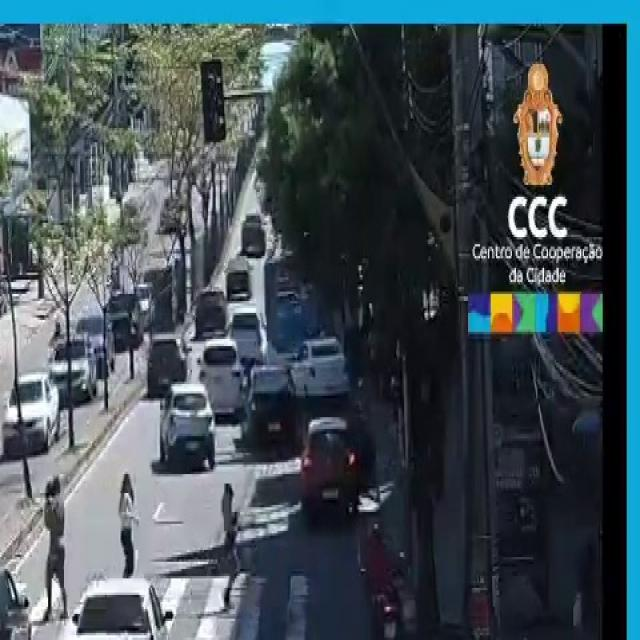car: (298, 416, 359, 520), (153, 380, 218, 474), (2, 372, 62, 452), (290, 335, 352, 408), (0, 562, 33, 640), (29, 630, 161, 640)
people: (39, 469, 72, 624), (217, 481, 245, 612), (112, 472, 144, 578)
